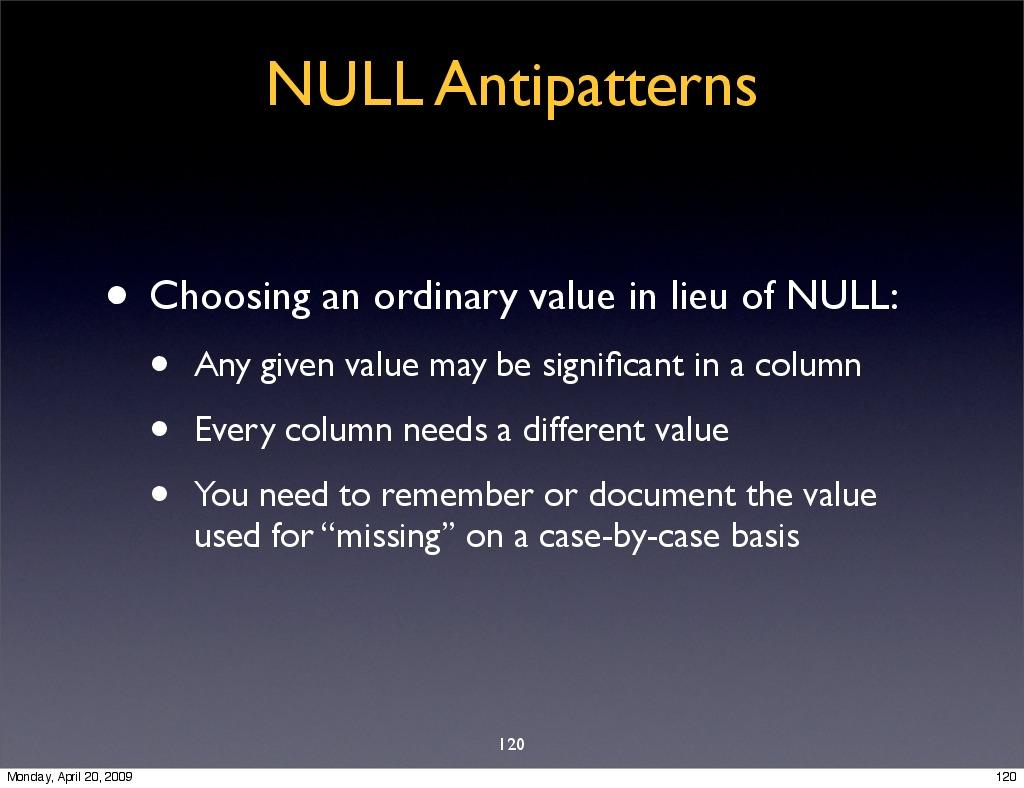paragraph: (101, 253, 929, 569)
title: (258, 38, 770, 137)
